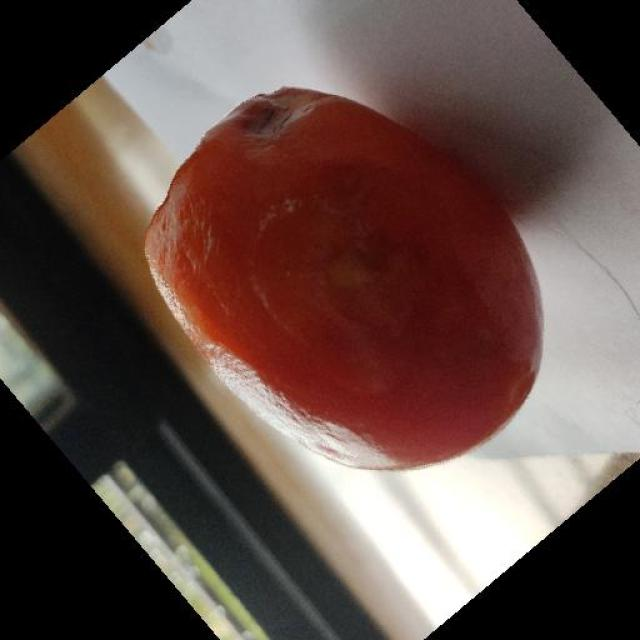Stale_tomato: (133, 65, 527, 484)
